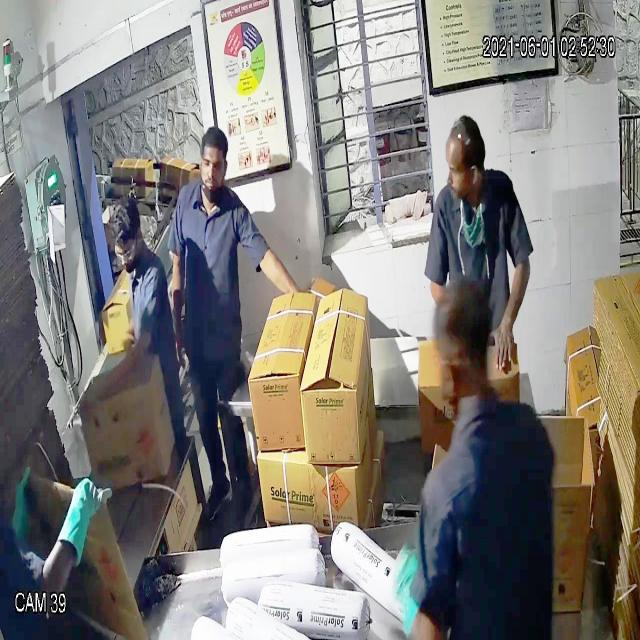glasses: (112, 230, 144, 272)
no-glass: (191, 153, 235, 181)
